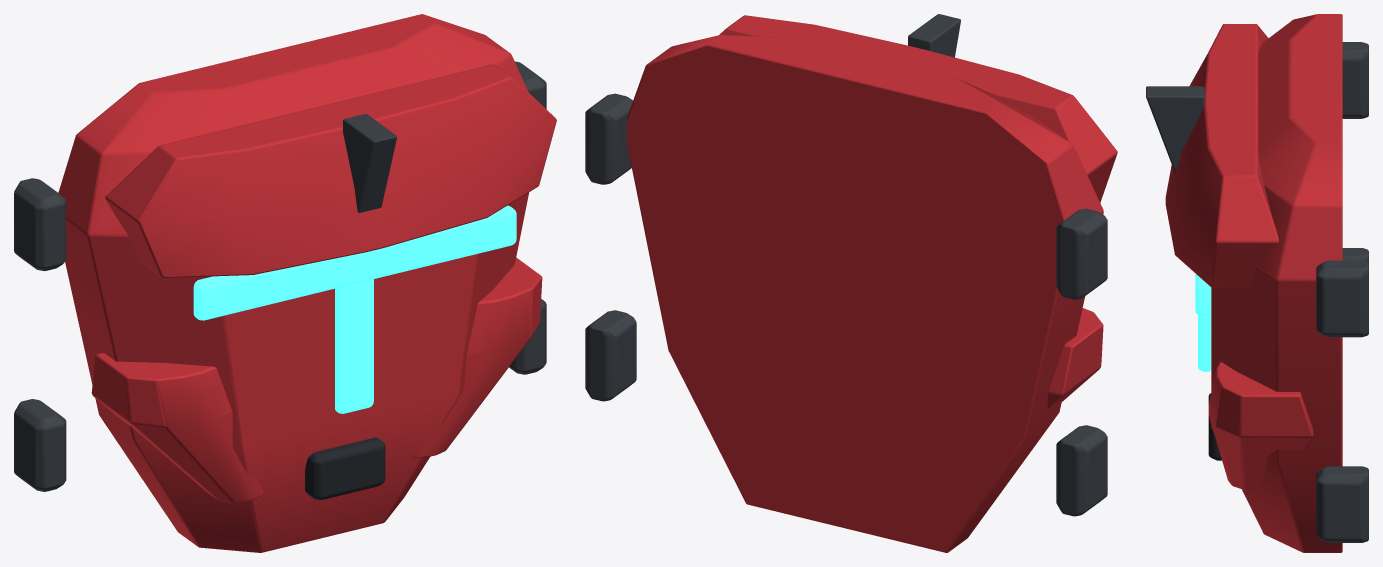
Rendered from HeadFront_Set02_Bastion.fbx.
The picture shows the model from 3 angles, left to right: view 1: azimuth 30°, elevation 25°; view 2: azimuth 150°, elevation 25°; view 3: azimuth 270°, elevation 25°; orthographic projection. The views are drawn at different scales.
Parts seen in each view (by area): view 1: HeadFront_Set02_Bastion; view 2: HeadFront_Set02_Bastion; view 3: HeadFront_Set02_Bastion.
Boxes of the visible parts, left/top/right/bottom form: HeadFront_Set02_Bastion: left=14, top=14, right=556, bottom=552; HeadFront_Set02_Bastion: left=585, top=14, right=1117, bottom=552; HeadFront_Set02_Bastion: left=1146, top=14, right=1368, bottom=552.
Bounding box in the file's own units: 0.63 × 0.54 × 0.2543.
